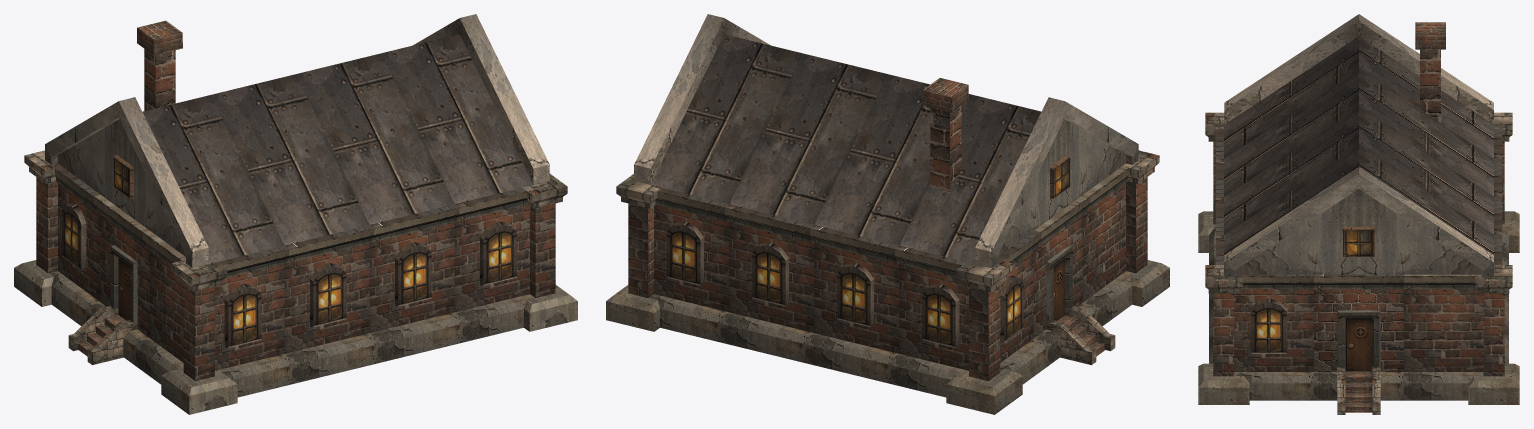
Rendered from building_2.fbx.
The picture shows the model from 3 angles, left to right: view 1: azimuth 30°, elevation 25°; view 2: azimuth 150°, elevation 25°; view 3: azimuth 270°, elevation 25°; orthographic projection. The views are drawn at different scales.
Parts seen in each view (by area): view 1: polySurface281; view 2: polySurface281; view 3: polySurface281.
Part boxes in pixels (box(x1,y1,x2,y2)): polySurface281: box(14, 14, 577, 414); polySurface281: box(606, 14, 1169, 414); polySurface281: box(1198, 14, 1519, 414).
Size of the model in its own units: 1519 by 905 by 1070.
